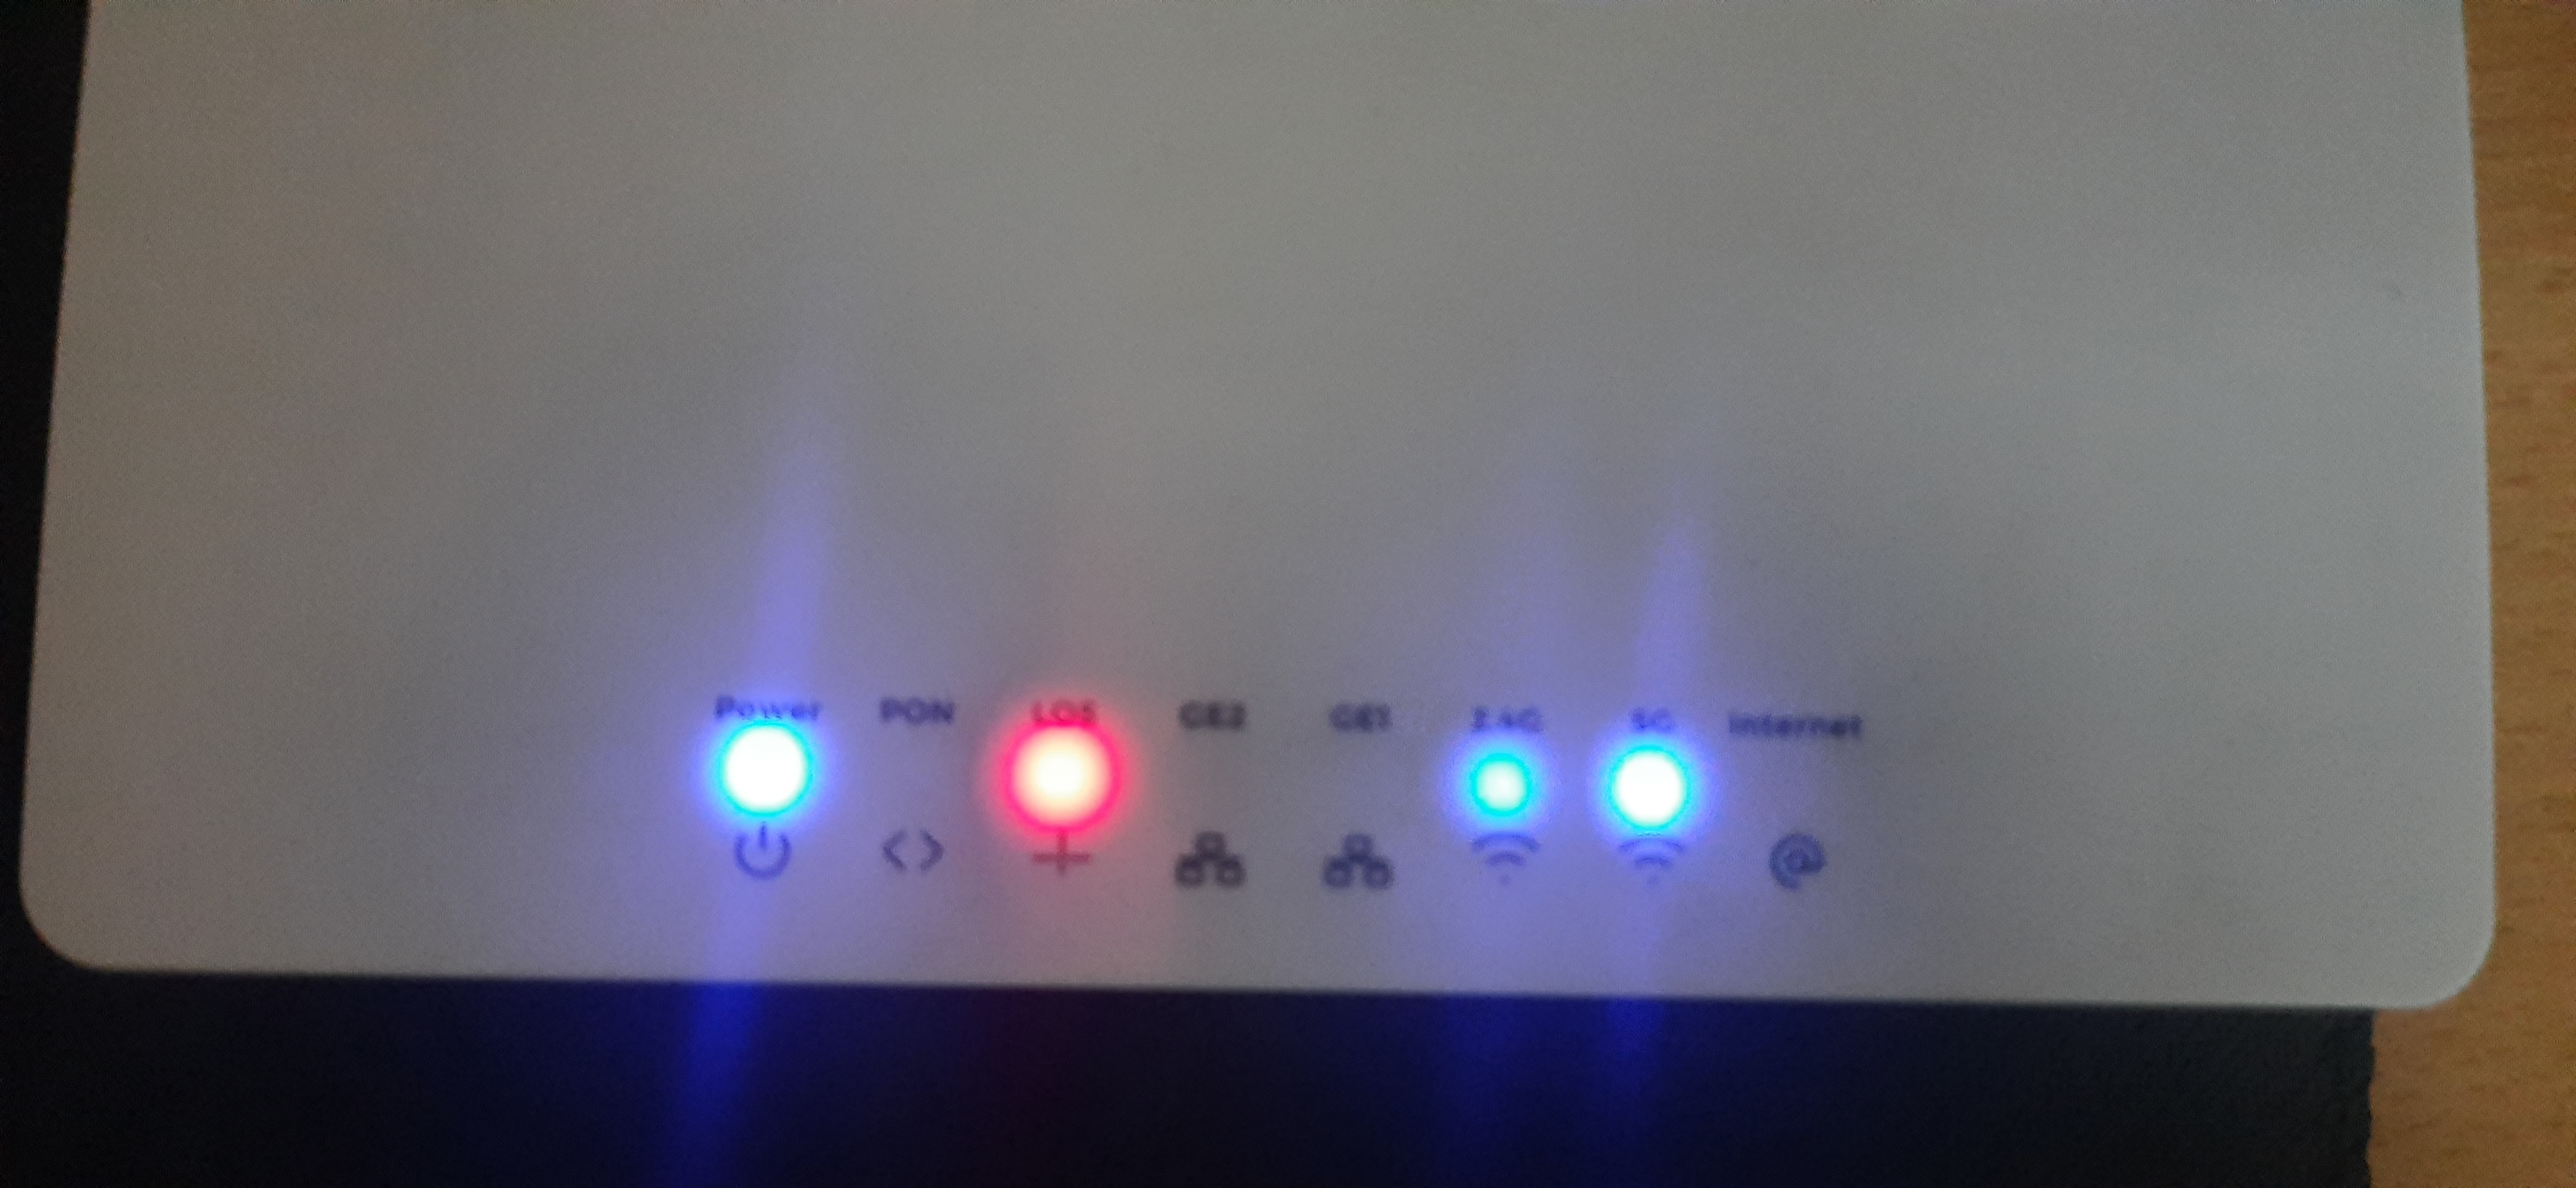LOSConnectionIssue: (966, 675, 1153, 910)
